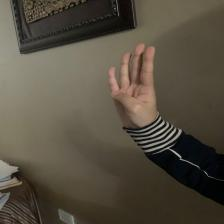four: (96, 40, 169, 137)
